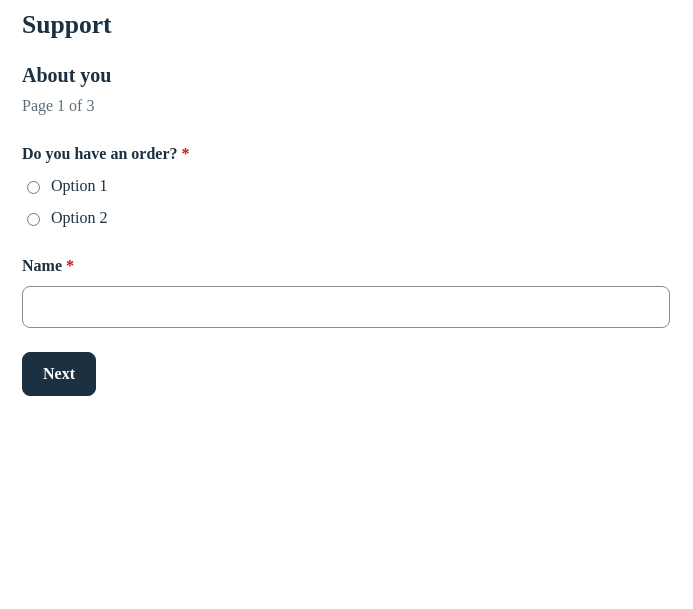
Test: FormRenderer (browser) › shows errors only after trying to continue, focuses the summary and links to each question
This screenshot has width=693, height=609.
Expected: the text with class "we-progress" reads "Page 1 of 3", [22,97,94,114]
Click the button "Next" at (59, 374), box [22,352,96,396]
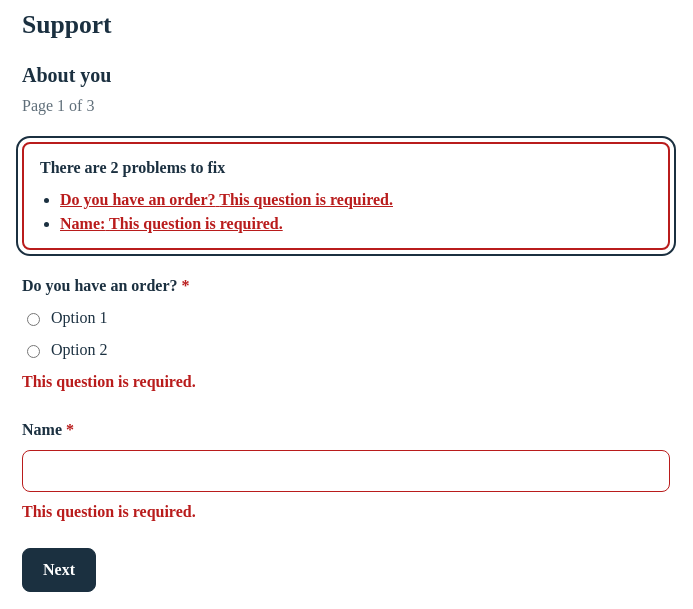
Expected: the message with class "we-error-summary" shows "There are 2 problems to fix", [40,159,225,176]
Click the link "Do you have an order? This question is required." at (138, 200), box [60,191,393,208]
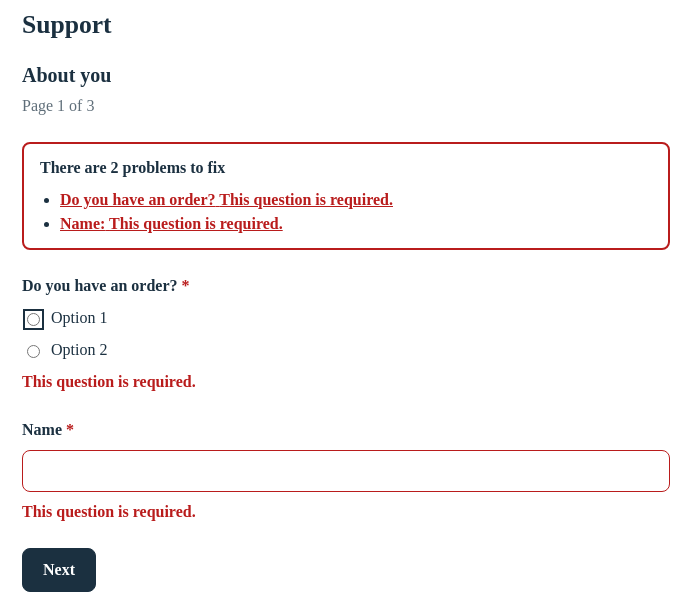
Type "Ada" into the field labelled "Name *" at (346, 471), box [22,450,670,492]
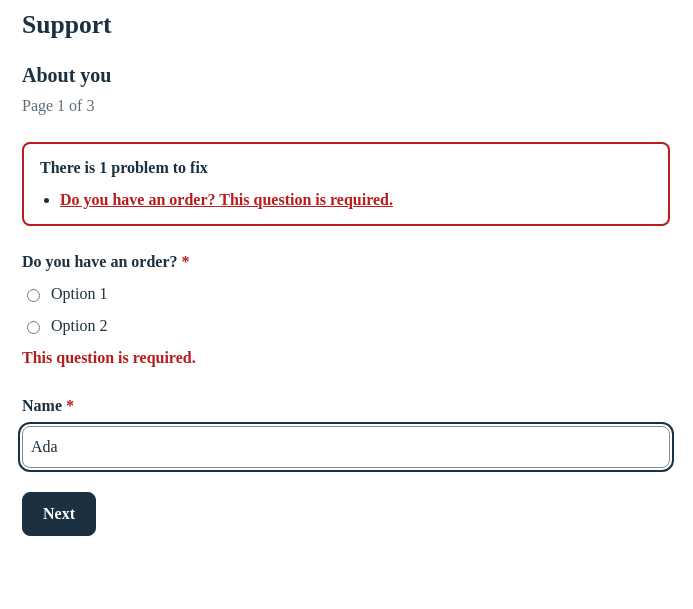
Expected: the message with class "we-error-summary" shows "There is 1 problem to fix", [40,159,208,176]
